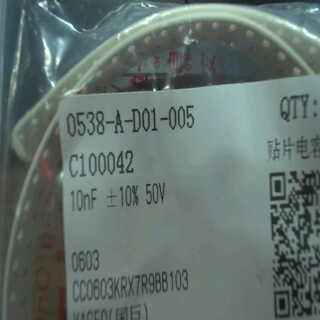10nF: (69, 183, 100, 218)
